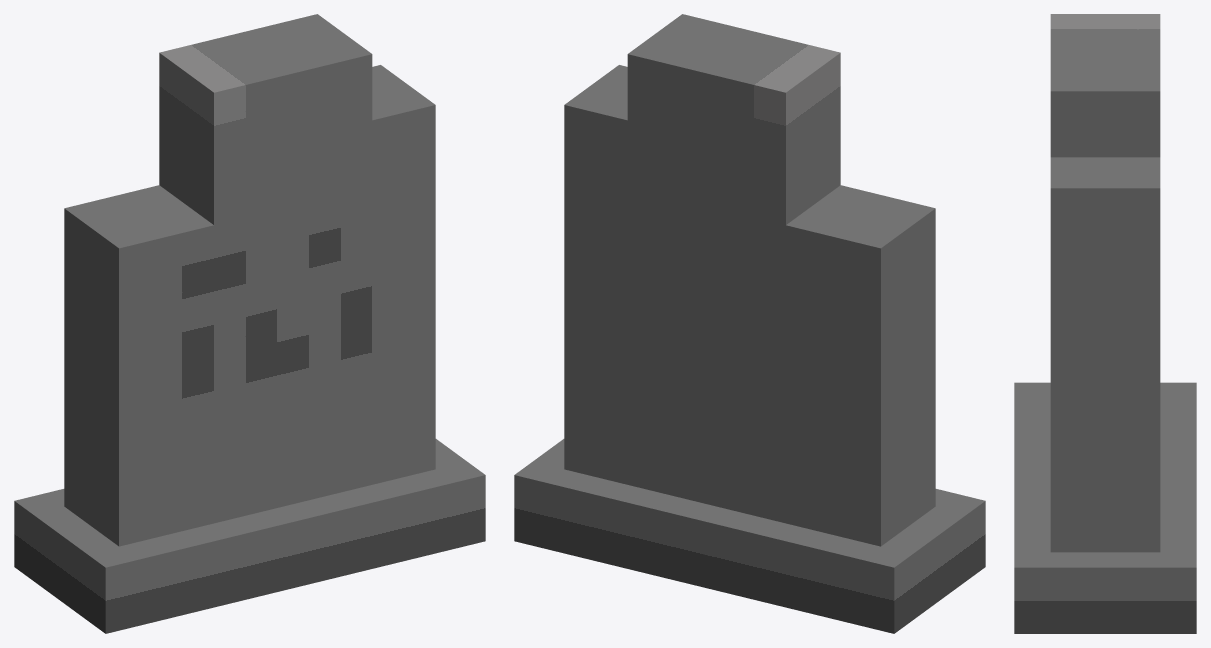
Rendered from weathered_headstone.gltf.
The picture shows the model from 3 angles, left to right: view 1: azimuth 30°, elevation 25°; view 2: azimuth 150°, elevation 25°; view 3: azimuth 270°, elevation 25°; orthographic projection.
Visible parts, largest first — view 1: tombstone05-Mesh; view 2: tombstone05-Mesh; view 3: tombstone05-Mesh.
Boxes of the visible parts, <box> form: tombstone05-Mesh: <box>14,14,485,633</box>; tombstone05-Mesh: <box>514,14,985,633</box>; tombstone05-Mesh: <box>1014,14,1196,633</box>.
Size of the model in its own units: 12 by 15 by 5.
Materials: 1 (1 with a texture image).
